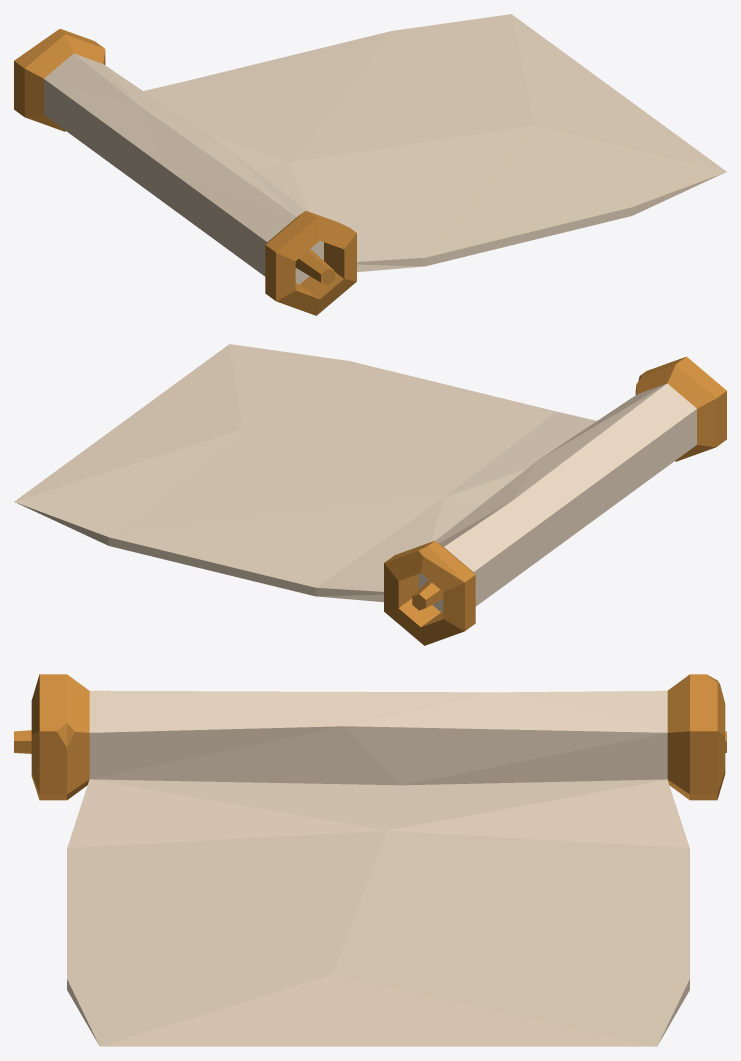
File: Scroll_1 Asia.fbx
3 renders of one model, top to bottom at view 1: azimuth 30°, elevation 25°; view 2: azimuth 150°, elevation 25°; view 3: azimuth 270°, elevation 25°, orthographic. The views are drawn at different scales.
Parts seen in each view (by area): view 1: Scroll_1; view 2: Scroll_1; view 3: Scroll_1.
Boxes of the visible parts, box(x1,y1,x2,y2) form: Scroll_1: box(14, 14, 726, 315); Scroll_1: box(14, 344, 726, 645); Scroll_1: box(14, 674, 726, 1046).
Bounding box in the file's own units: 0.2815 × 0.0553 × 0.2835.
